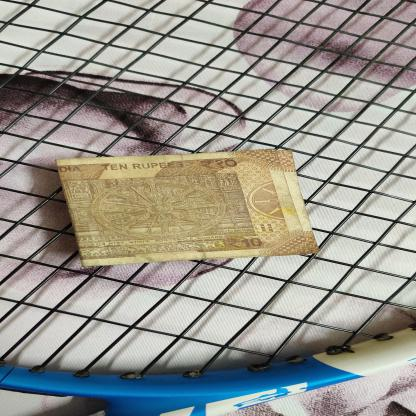New10Back: (55, 148, 322, 268)
